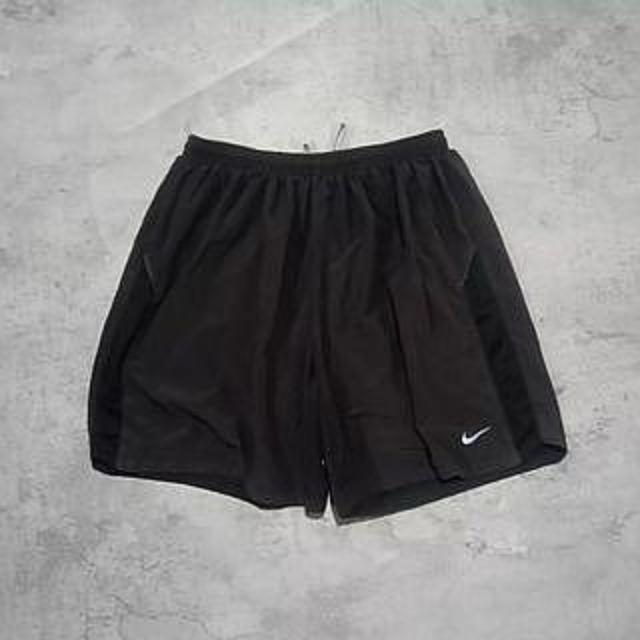SHORT: (85, 113, 590, 530)
